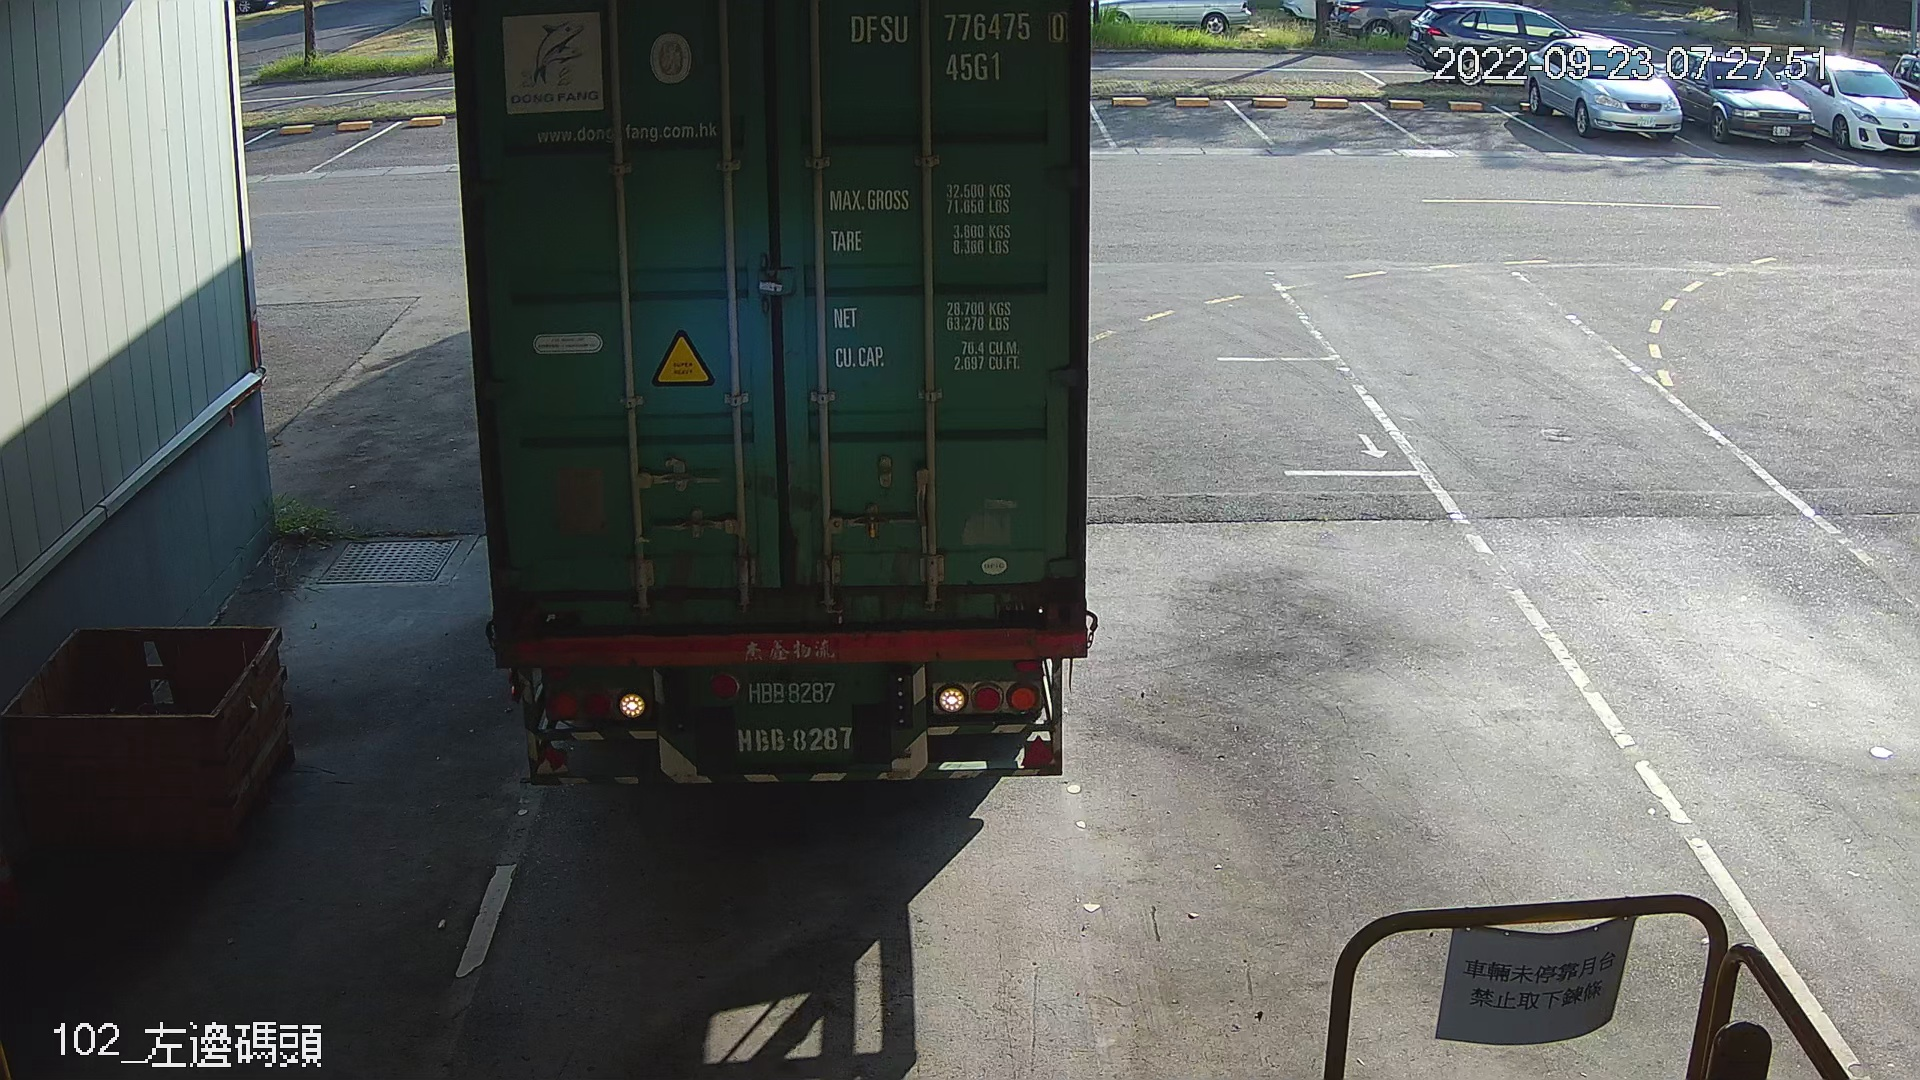container: (841, 7, 1073, 88)
